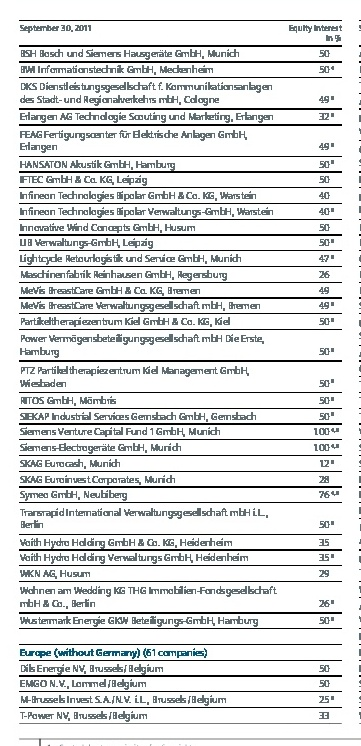table: (0, 0, 361, 746)
